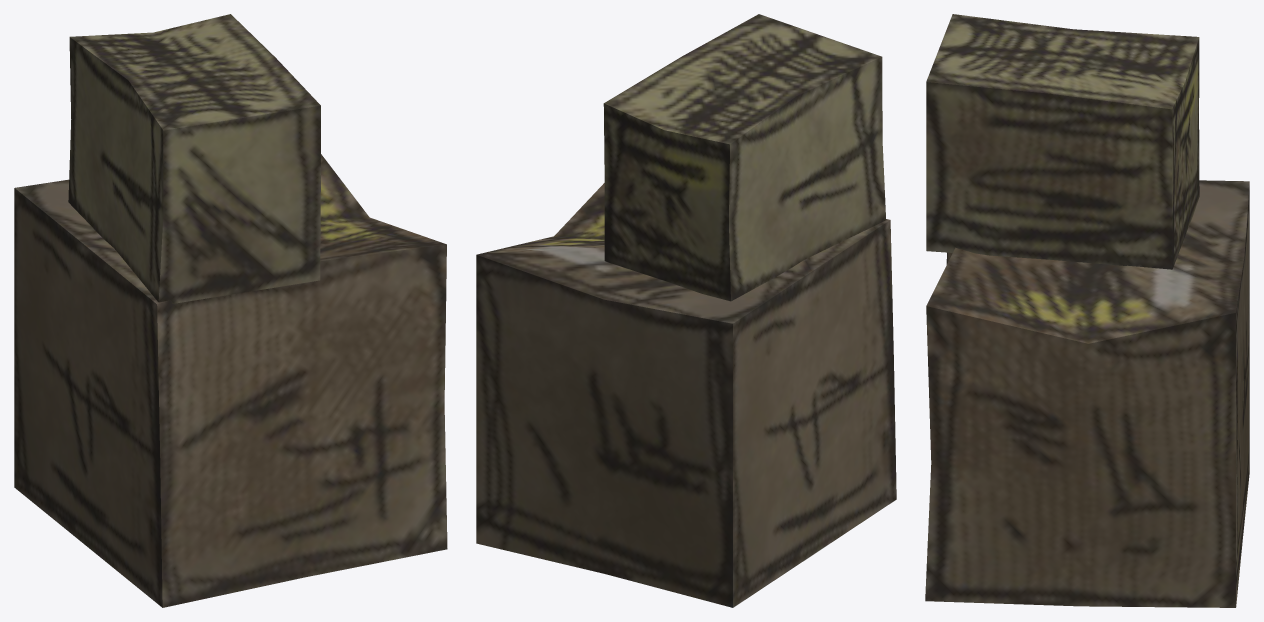
The model's file is boxcardboard4.fbx.
3 views of the same model, side by side, from view 1: azimuth 30°, elevation 25°; view 2: azimuth 150°, elevation 25°; view 3: azimuth 270°, elevation 25° (orthographic). The views are drawn at different scales.
Visible parts, largest first — view 1: Boxes.009; view 2: Boxes.009; view 3: Boxes.009.
Boxes of the visible parts, box(x1,y1,x2,y2) form: Boxes.009: box(14, 14, 447, 607); Boxes.009: box(476, 14, 896, 607); Boxes.009: box(925, 14, 1249, 607).
Bounding box in the file's own units: 36.55 × 57.38 × 36.55.
